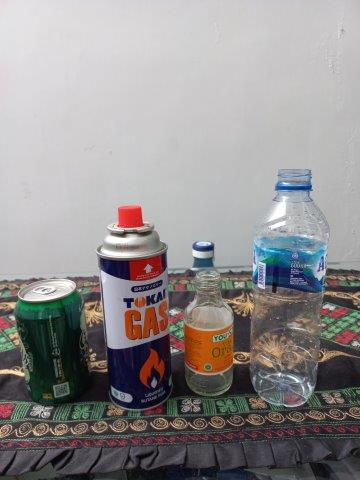botolkaca: (183, 271, 235, 396)
botolplastik: (251, 170, 330, 407)
kaleng: (97, 204, 173, 411), (14, 279, 88, 406)
